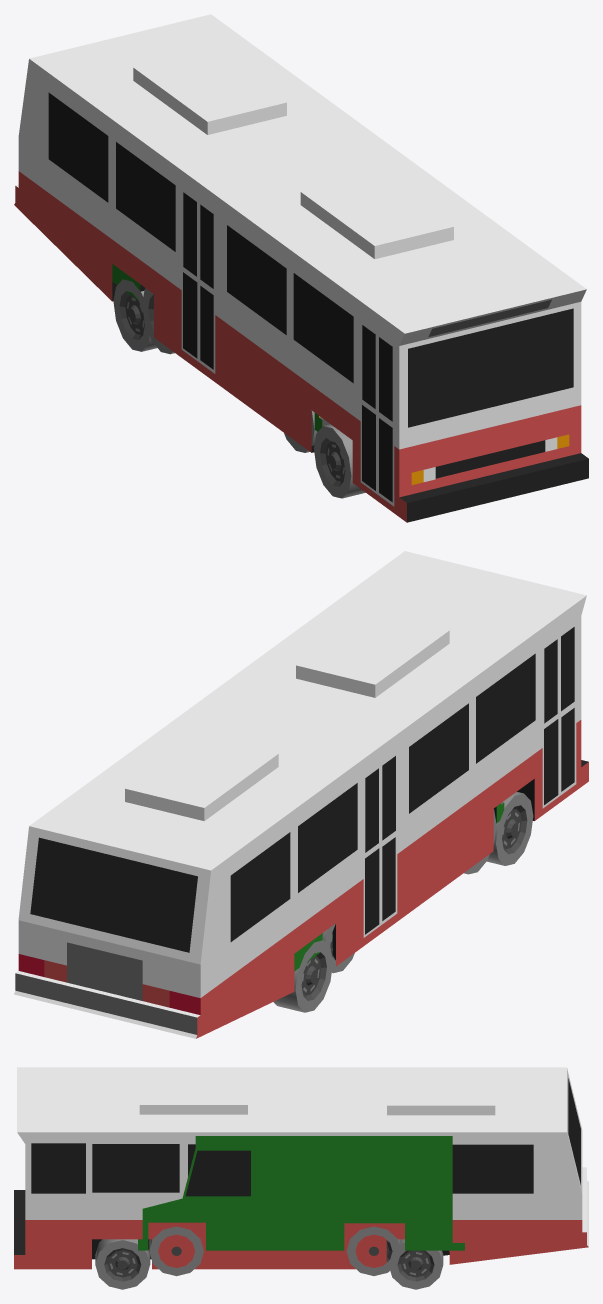
Rendered from TrafficVehicles.FBX.
3 renders of one model, top to bottom at view 1: azimuth 30°, elevation 25°; view 2: azimuth 150°, elevation 25°; view 3: azimuth 270°, elevation 25°, orthographic. The views are drawn at different scales.
Parts seen in each view (by area): view 1: Bus_Body, Bus_Wheel_FR, Bus_Wheel_RR; view 2: Bus_Body, Bus_Wheel_RR, Bus_Wheel_FR; view 3: Bus_Body, Van_Body, Bus_Wheel_FL, Bus_Wheel_RL, Van_Wheel_RL, Van_Wheel_FL.
Boxes of the visible parts, <box> form: Bus_Body: <box>14,14,588,522</box>; Bus_Wheel_FR: <box>314,424,365,498</box>; Bus_Wheel_RR: <box>113,279,157,351</box>; Bus_Body: <box>14,551,588,1038</box>; Bus_Wheel_RR: <box>273,940,332,1012</box>; Bus_Wheel_FR: <box>487,792,533,865</box>; Bus_Body: <box>14,1067,588,1269</box>; Van_Body: <box>138,1136,464,1250</box>; Bus_Wheel_FL: <box>95,1239,150,1289</box>; Bus_Wheel_RL: <box>390,1239,443,1289</box>; Van_Wheel_RL: <box>346,1226,401,1275</box>; Van_Wheel_FL: <box>149,1226,203,1276</box>.
Size of the model in its own units: 40.16 by 48.21 by 150.
